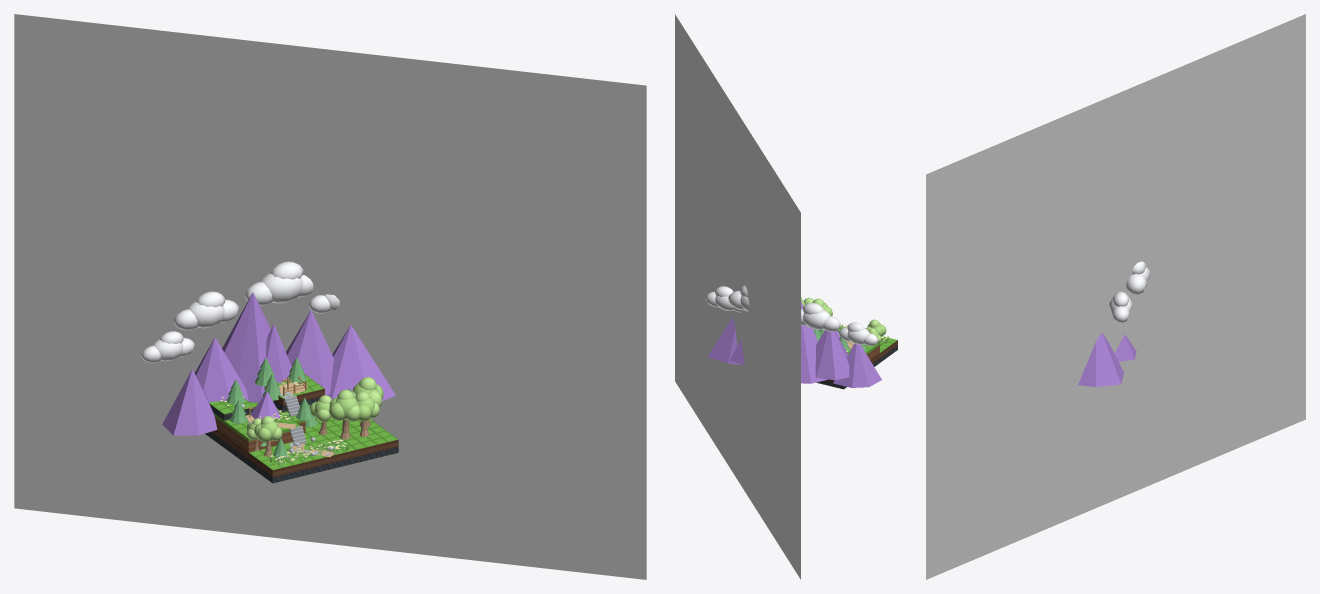
Rendered from map_25d.fbx.
3 views of the same model, side by side, from view 1: azimuth 30°, elevation 25°; view 2: azimuth 150°, elevation 25°; view 3: azimuth 270°, elevation 25° (orthographic). The views are drawn at different scales.
Visible parts, largest first — view 1: SM_Sky_Backdrop_Plane, SM_Mountains_Background, SM_Terrain_Chunk, SM_Cloud_02, SM_Cloud_01, SM_Cloud_03, SM_Tree_Deciduous_01; view 2: SM_Sky_Backdrop_Plane, SM_Mountains_Background, SM_Cloud_01, SM_Terrain_Chunk, SM_Cloud_03, SM_Cloud_04, SM_Cloud_02; view 3: SM_Sky_Backdrop_Plane, SM_Mountains_Background, SM_Cloud_02, SM_Cloud_04.
Boxes of the visible parts, <box> form: SM_Sky_Backdrop_Plane: <box>14,14,646,579</box>; SM_Mountains_Background: <box>162,292,395,435</box>; SM_Terrain_Chunk: <box>205,374,398,483</box>; SM_Cloud_02: <box>245,261,313,305</box>; SM_Cloud_01: <box>174,291,238,330</box>; SM_Cloud_03: <box>141,331,194,362</box>; SM_Tree_Deciduous_01: <box>329,389,359,439</box>; SM_Sky_Backdrop_Plane: <box>675,14,800,579</box>; SM_Mountains_Background: <box>707,301,881,387</box>; SM_Cloud_01: <box>801,302,840,331</box>; SM_Terrain_Chunk: <box>816,326,897,389</box>; SM_Cloud_03: <box>838,322,878,345</box>; SM_Cloud_04: <box>705,286,741,312</box>; SM_Cloud_02: <box>728,285,749,311</box>; SM_Sky_Backdrop_Plane: <box>926,14,1305,579</box>; SM_Mountains_Background: <box>1078,333,1136,387</box>; SM_Cloud_02: <box>1126,261,1149,294</box>; SM_Cloud_04: <box>1109,291,1132,322</box>.
Bounding box in the file's own units: 38.18 × 45 × 38.18.
16 materials, 2 textured.
